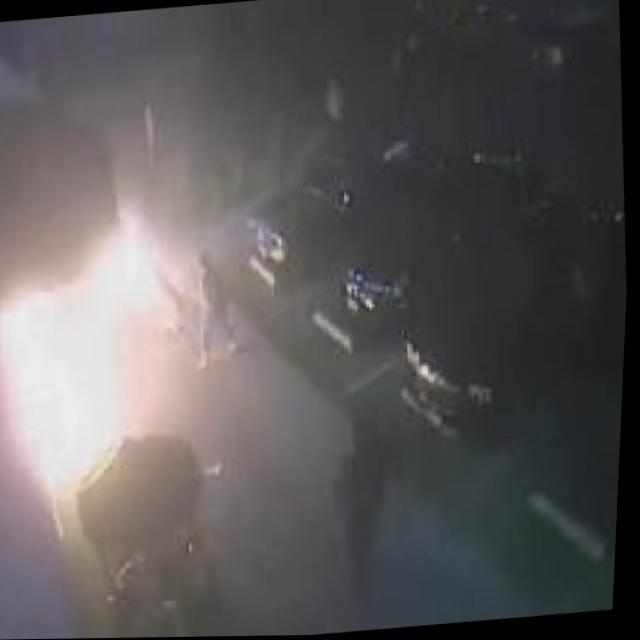fire: (0, 216, 196, 515)
